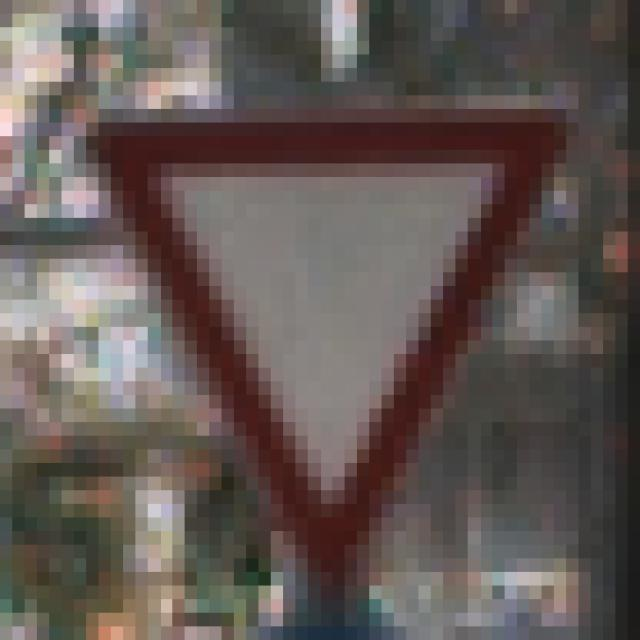Give Way: (75, 69, 579, 573)
